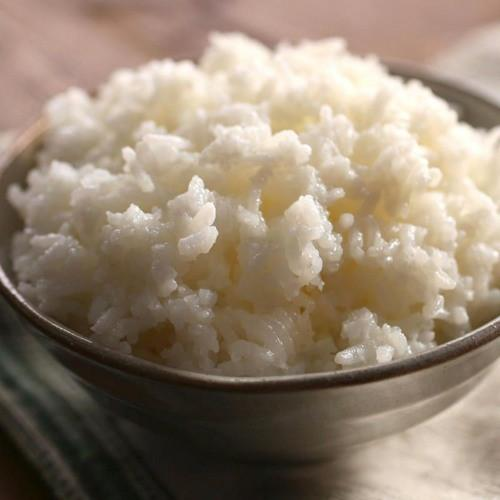WhiteRice: (7, 25, 500, 370)
